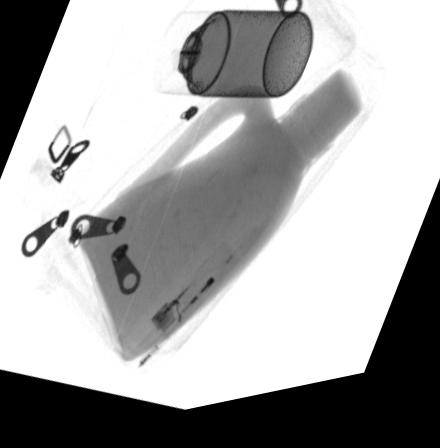Lighter: (147, 250, 239, 350)
Sprayer: (152, 19, 312, 109)
